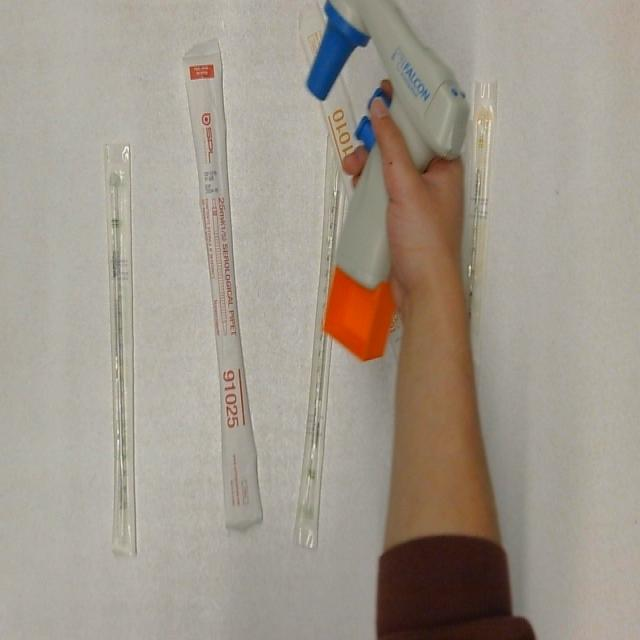Pipette Controller: (300, 0, 463, 367)
Serelogical Pipet 1 mL: (449, 72, 502, 387)
Serelogical Pipet 10 mL: (296, 0, 373, 201)
Serelogical Pipet 2 mL: (289, 120, 351, 554), (104, 130, 136, 562)
Serelogical Pipet 25 mL: (182, 32, 268, 538)
